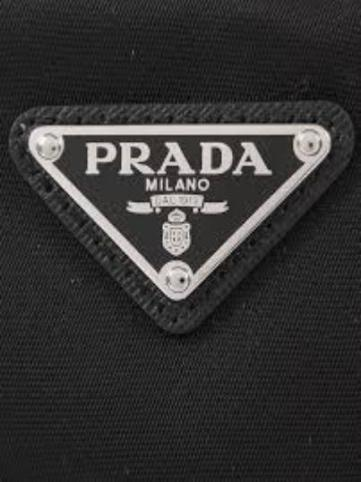PRADA: (85, 131, 272, 181)
